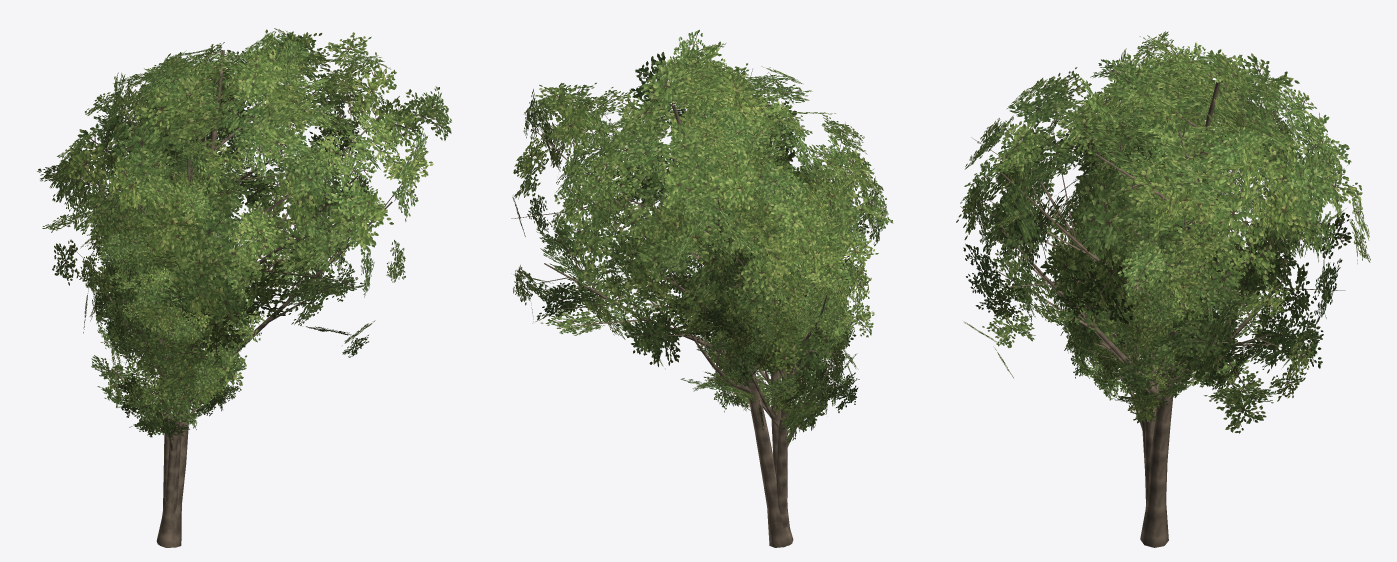
File: trees.glb
3 renders of one model, left to right at view 1: azimuth 30°, elevation 25°; view 2: azimuth 150°, elevation 25°; view 3: azimuth 270°, elevation 25°, orthographic. The views are drawn at different scales.
Visible parts, largest first — view 1: framing_lod0, street_c_lod0, street_a_lod0, street_b_lod0; view 2: framing_lod0, street_a_lod0, street_c_lod0, street_b_lod0; view 3: framing_lod0, street_c_lod0, street_b_lod0, street_a_lod0.
Part boxes in pixels (x1,y1,x2,y2): framing_lod0: (37,28,451,547); street_c_lod0: (76,117,264,547); street_a_lod0: (80,162,246,512); street_b_lod0: (95,224,265,507); framing_lod0: (511,29,893,547); street_a_lod0: (699,176,872,514); street_c_lod0: (690,131,874,545); street_b_lod0: (701,235,859,498); framing_lod0: (956,31,1370,547); street_c_lod0: (1052,97,1258,507); street_b_lod0: (1060,195,1240,468); street_a_lod0: (1064,117,1245,401).
Size of what is drawn, in the model's own units: 11.02 by 12.95 by 9.4.
2 materials, 2 textured.
